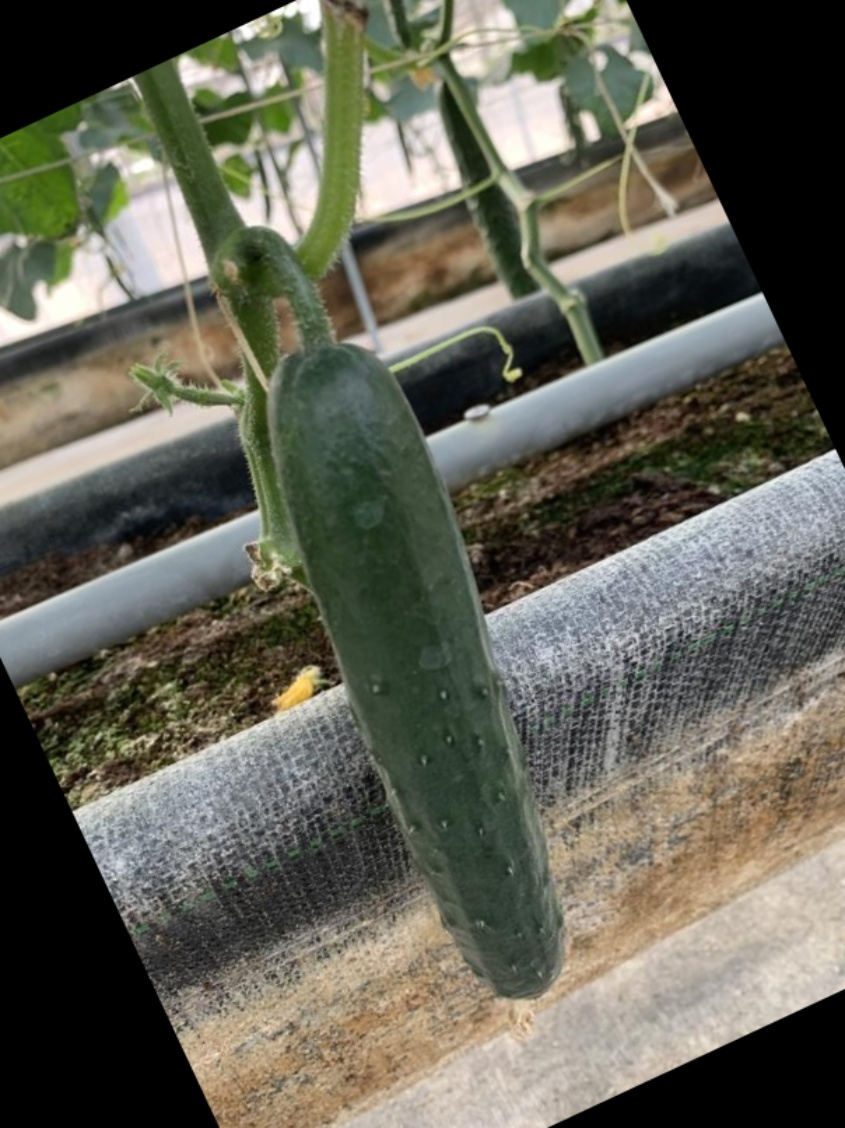mature: (259, 343, 577, 1023)
